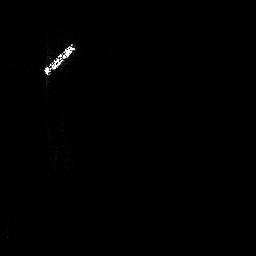ship: (39, 40, 80, 78)
